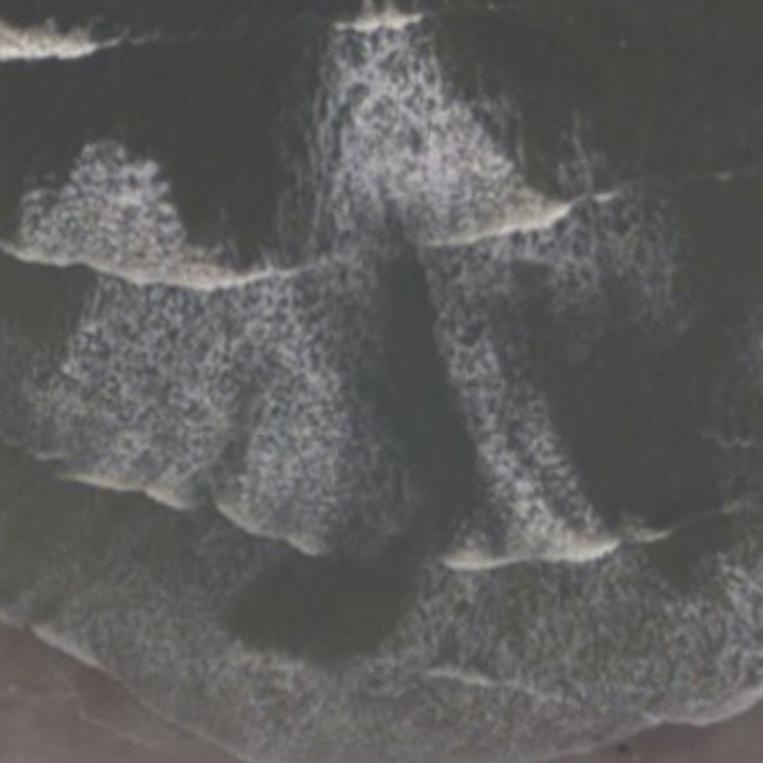rip_current: (220, 202, 588, 633)
